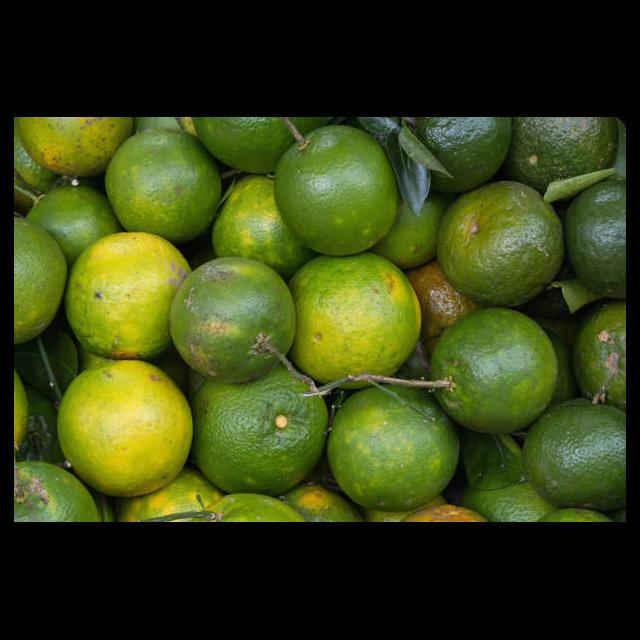lime: (271, 124, 400, 260), (66, 232, 195, 361), (166, 259, 297, 385), (14, 118, 136, 178)
